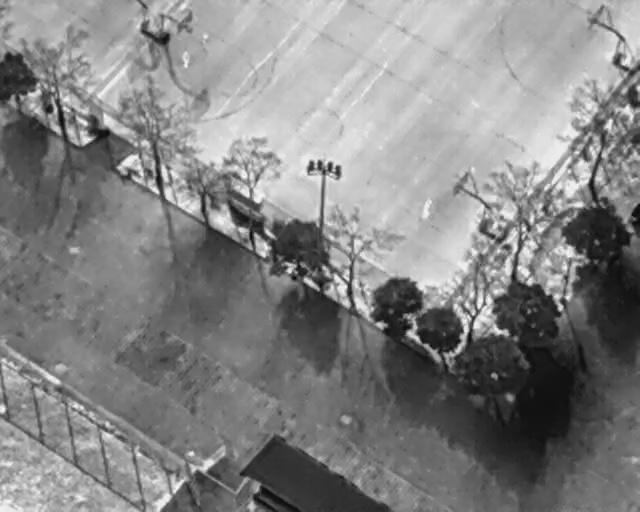Person: (423, 196, 432, 218), (182, 48, 190, 68), (201, 31, 208, 51)
